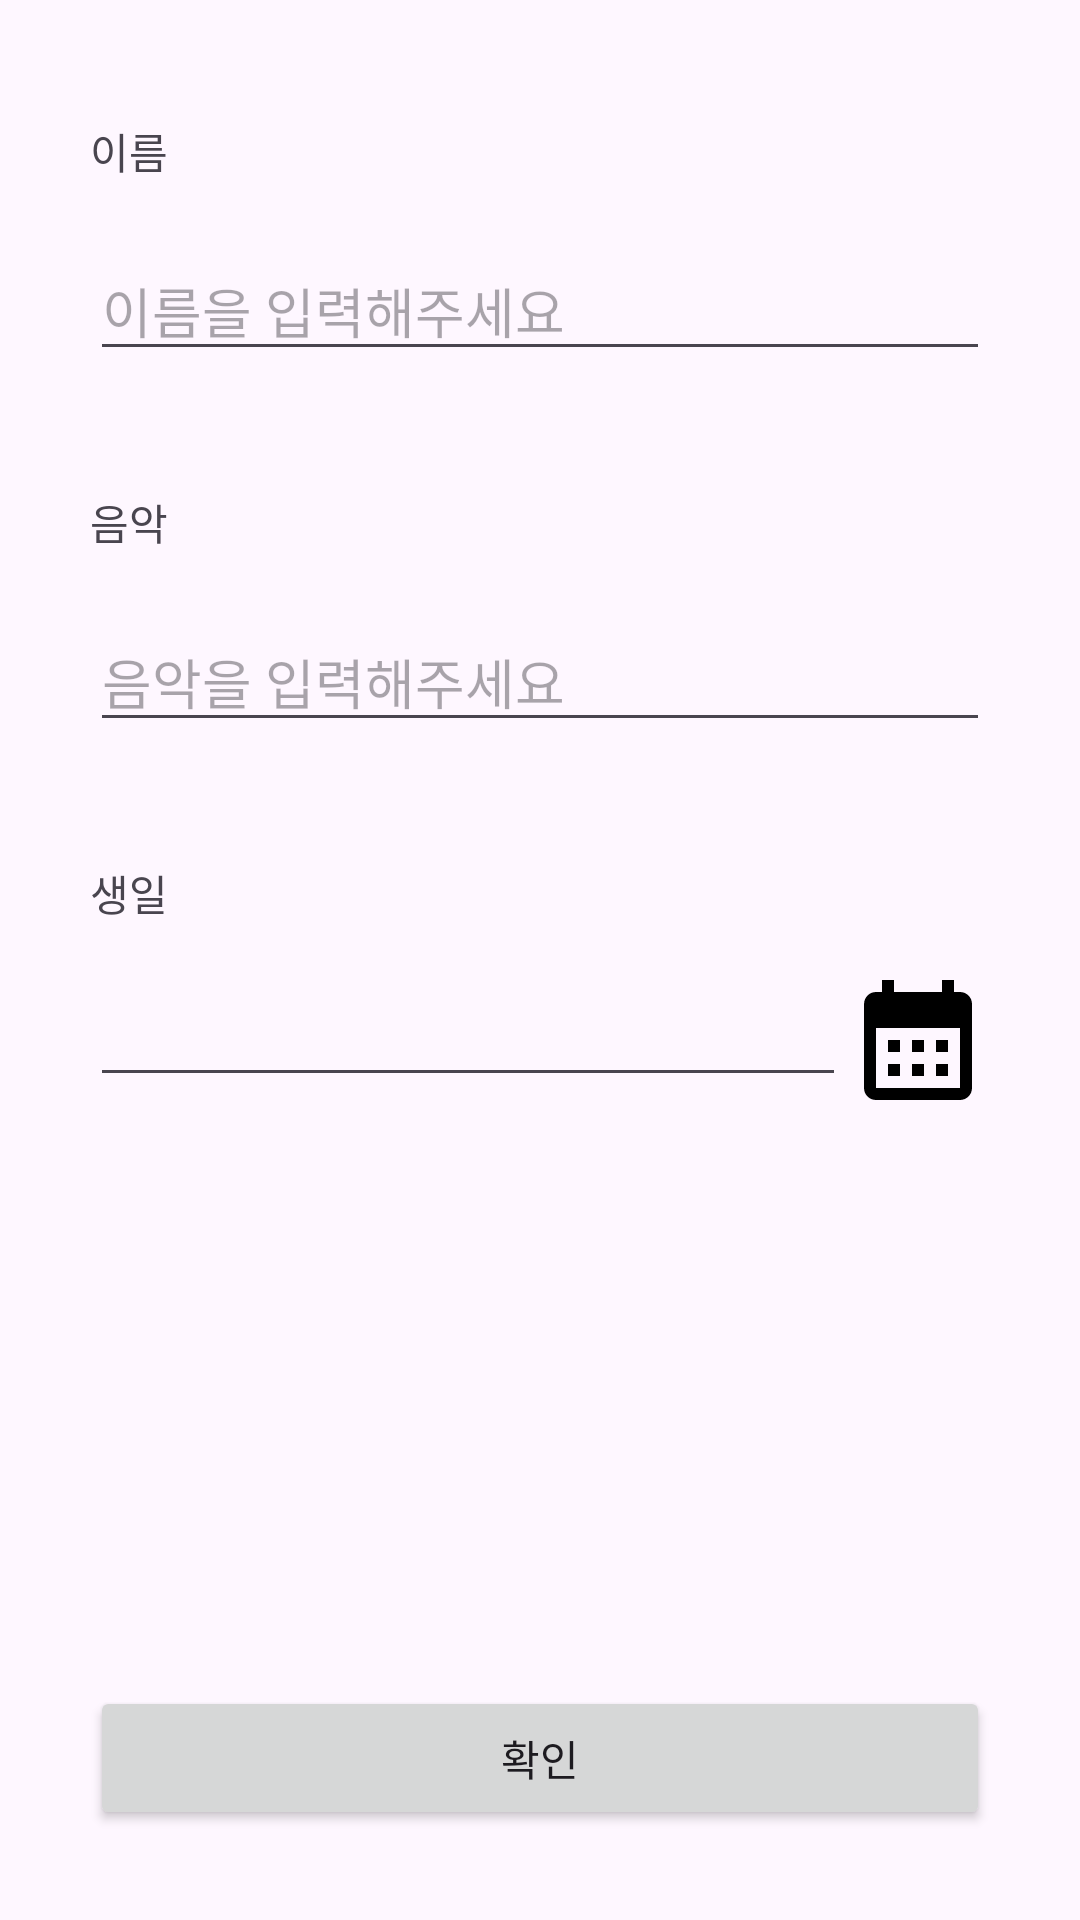

Where icons sit on this 1080 x 1920 app screen, as (x1, y1, x2, y2):
calendar: (864, 980, 972, 1100)
